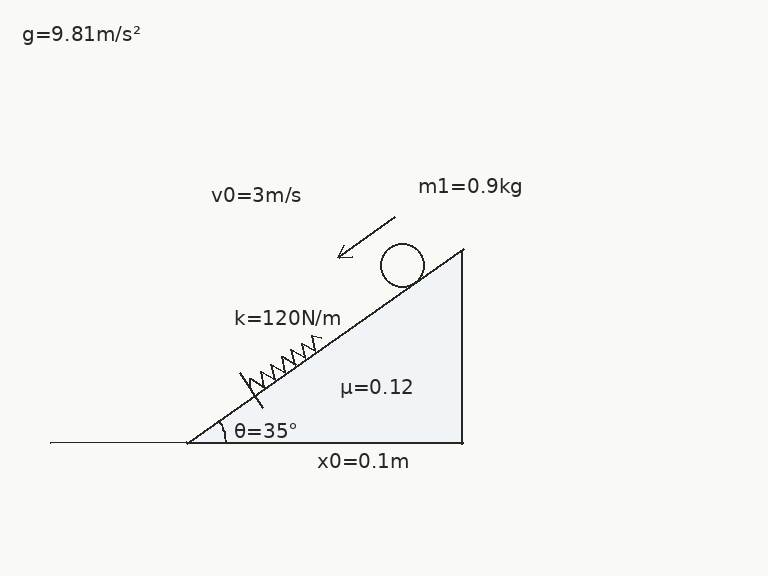ball: (378, 241, 426, 289)
ramp: (184, 248, 464, 445)
spring: (248, 333, 324, 389)
